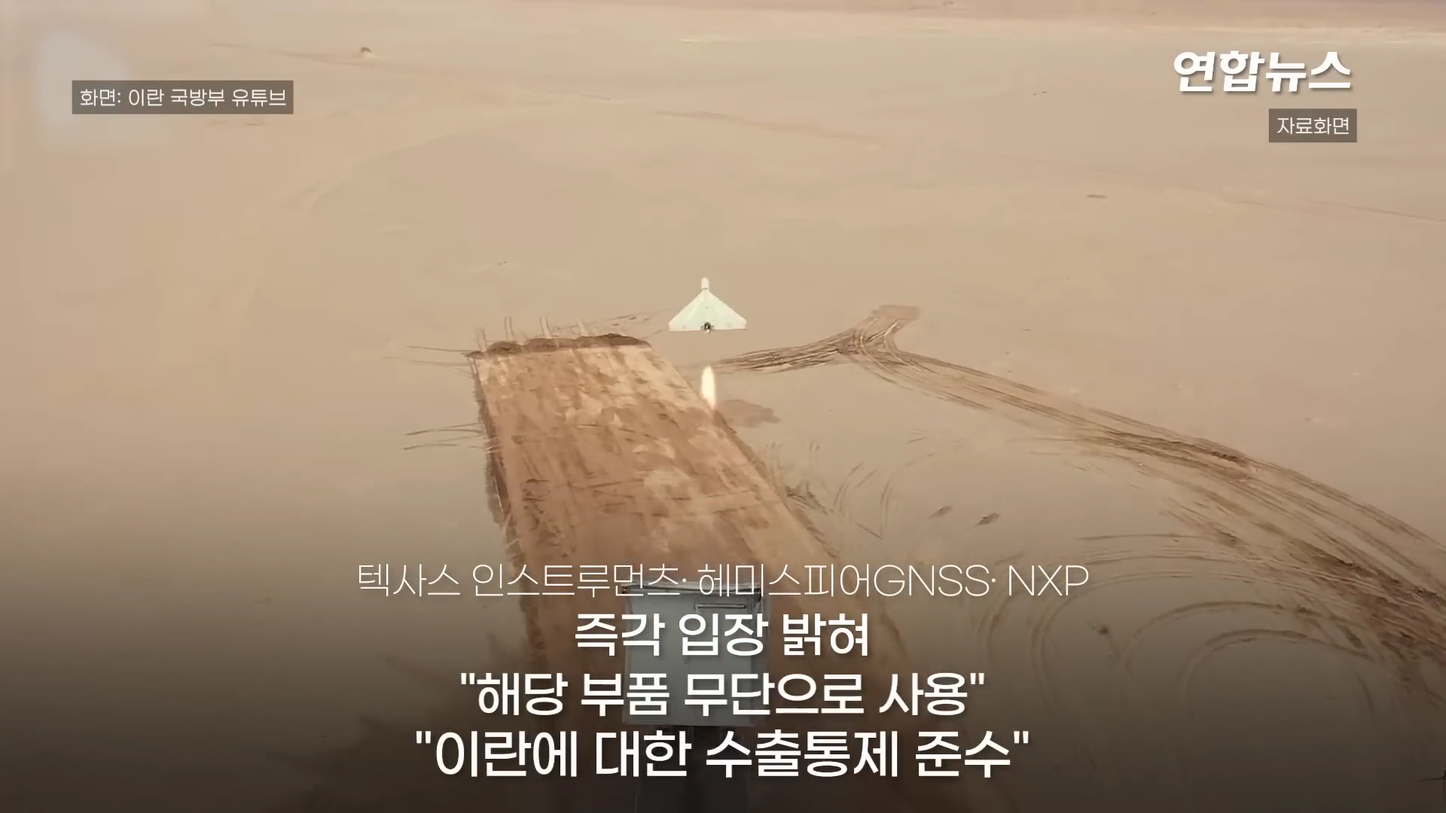shahed: (667, 275, 747, 333)
